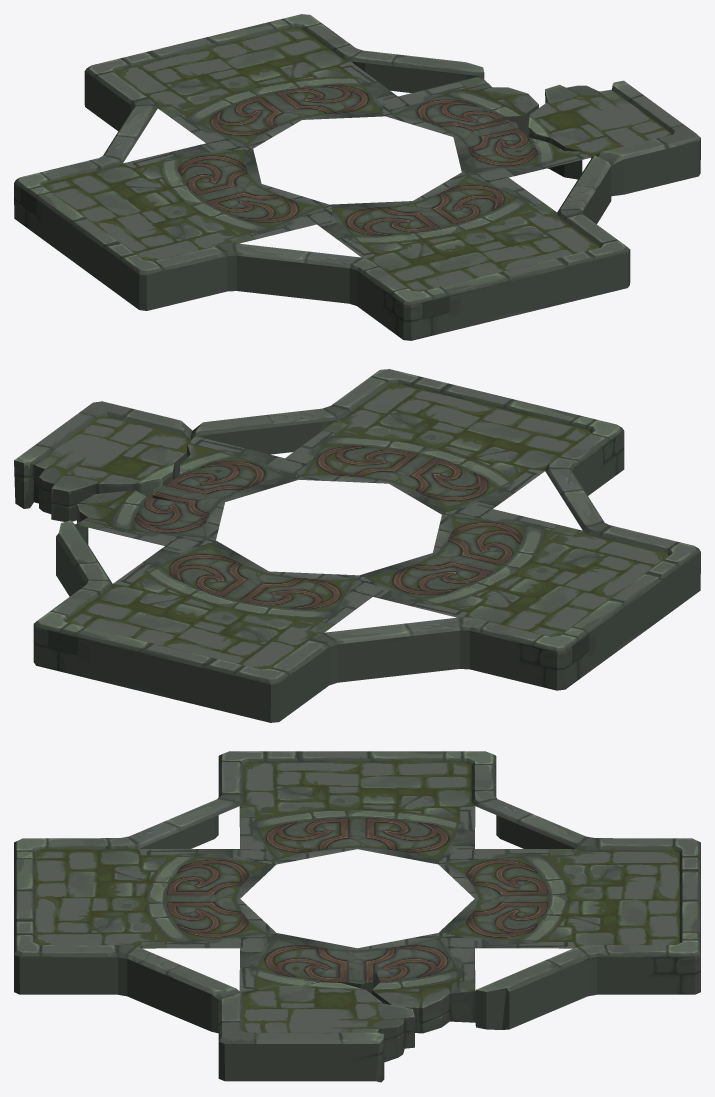
The model's file is yw_shanlin_baseframe_001.FBX.
3 renders of one model, top to bottom at view 1: azimuth 30°, elevation 25°; view 2: azimuth 150°, elevation 25°; view 3: azimuth 270°, elevation 25°, orthographic. The views are drawn at different scales.
Visible parts, largest first — view 1: yw_shanlin_baseframe_001; view 2: yw_shanlin_baseframe_001; view 3: yw_shanlin_baseframe_001.
Part boxes in pixels (x1=…): yw_shanlin_baseframe_001: x1=14, y1=14, x2=700, y2=340; yw_shanlin_baseframe_001: x1=14, y1=369, x2=700, y2=722; yw_shanlin_baseframe_001: x1=14, y1=751, x2=700, y2=1082.
Size of the model in its own units: 2865 by 2865 by 207.
